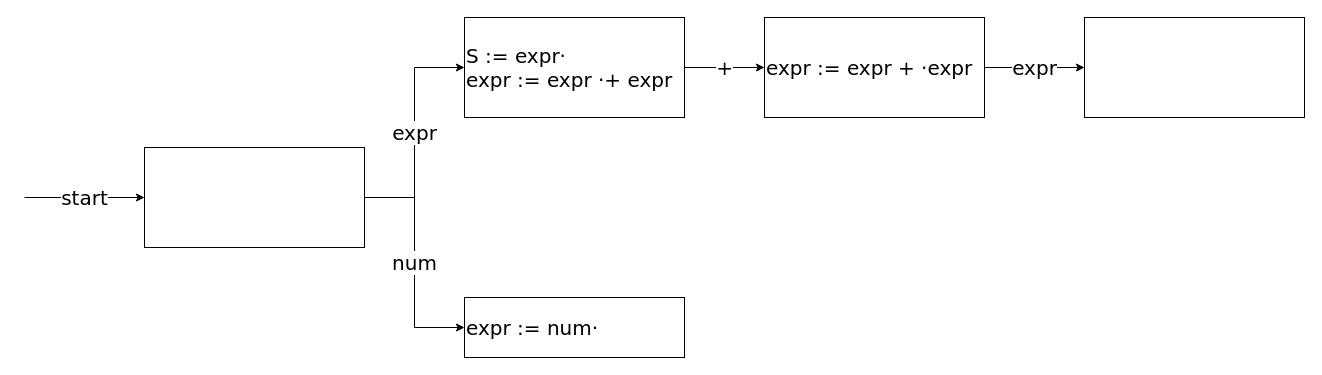
Some shapes in this 1322 by 375 pixel diagram are drawn without their labels. The shapes that lost their labels are listed below. From the top down, each one's centre as x and y in pixels, then its label:
point 1194,67: expr := expr + expr·
point 254,197: S := ·expr expr := ·expr + expr expr := ·num
